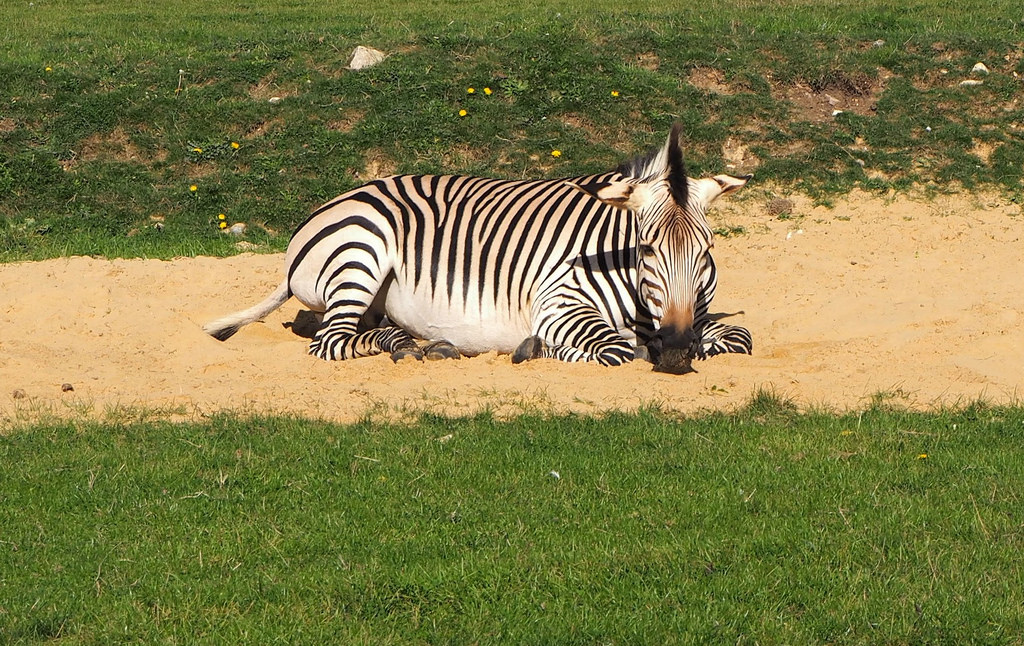zebra: (281, 138, 753, 369)
